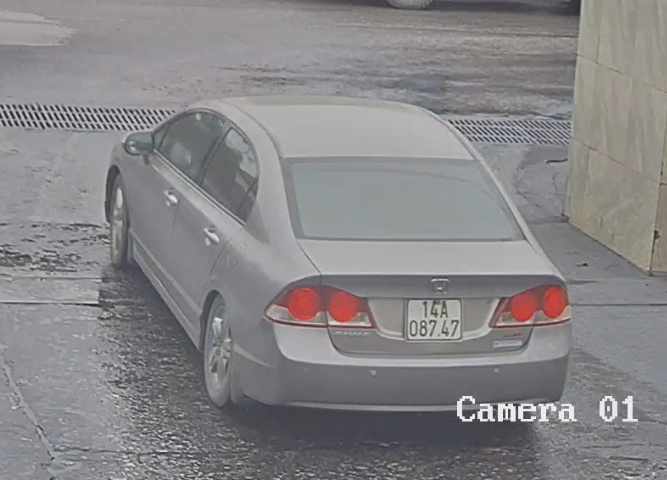vehicle plate: (403, 292, 464, 342)
